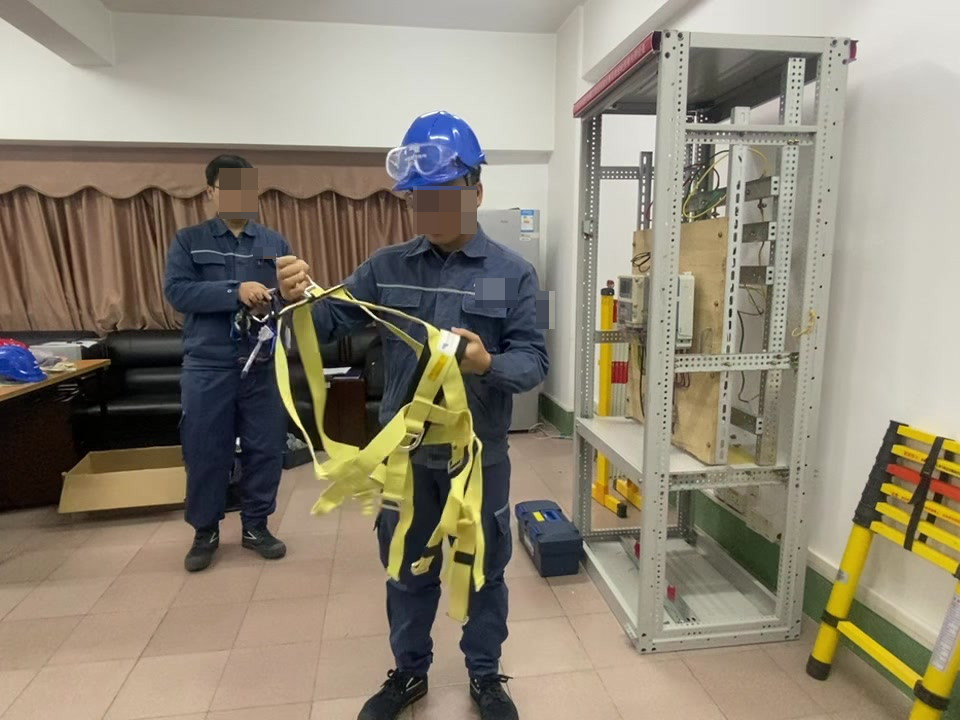downsuit: (367, 463, 519, 675), (176, 378, 290, 526)
halt: (391, 111, 491, 242)
hand: (449, 325, 493, 376), (276, 253, 310, 300), (234, 277, 270, 307)
inear: (460, 173, 488, 211)
noear: (203, 184, 228, 211)
person: (325, 107, 557, 720), (160, 151, 310, 565)
sleeve: (538, 294, 549, 327)
unhalt: (203, 153, 261, 222)
upsuit: (322, 222, 546, 459), (166, 217, 296, 353)
